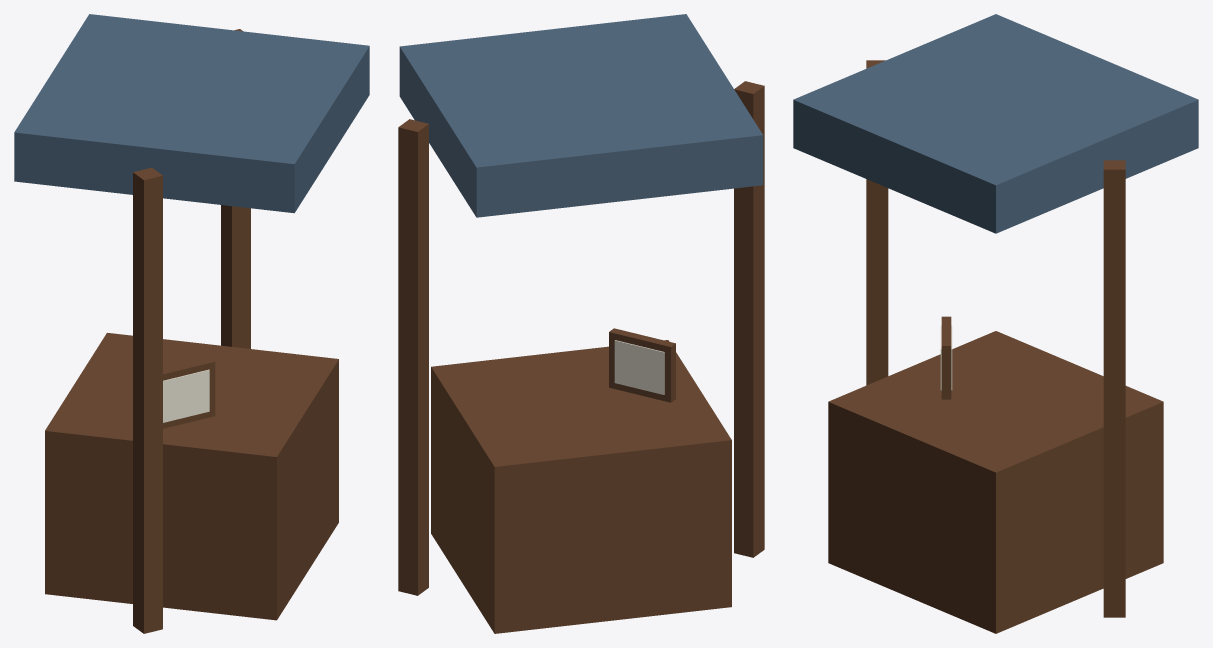
File: SM_ArtDealerStall.fbx
3 views of the same model, side by side, from view 1: azimuth 30°, elevation 25°; view 2: azimuth 150°, elevation 25°; view 3: azimuth 270°, elevation 25° (orthographic). The views are drawn at different scales.
Visible parts, largest first — view 1: Counter.001, Awning.001, Post_Left.001, Post_Right.001, Canvas_1, Frame_1; view 2: Counter.001, Awning.001, Post_Right.001, Post_Left.001, Canvas_1, Frame_1; view 3: Counter.001, Awning.001, Post_Right.001, Post_Left.001, Frame_1.
Boxes of the visible parts, x1,y1,x2,y2 form: Counter.001: (45, 332, 338, 620); Awning.001: (14, 14, 369, 213); Post_Left.001: (133, 167, 162, 633); Post_Right.001: (221, 29, 250, 348); Canvas_1: (163, 369, 209, 422); Frame_1: (163, 358, 215, 428); Counter.001: (431, 340, 731, 633); Awning.001: (399, 14, 763, 217); Post_Right.001: (398, 119, 428, 595); Post_Left.001: (734, 81, 764, 557); Canvas_1: (614, 340, 664, 394); Frame_1: (609, 328, 675, 402); Counter.001: (828, 331, 1163, 633); Awning.001: (793, 14, 1198, 233); Post_Right.001: (1103, 160, 1125, 617); Post_Left.001: (866, 60, 888, 385); Frame_1: (941, 316, 951, 399).
Bounding box in the file's own units: 2.05 × 2.59 × 2.05.
